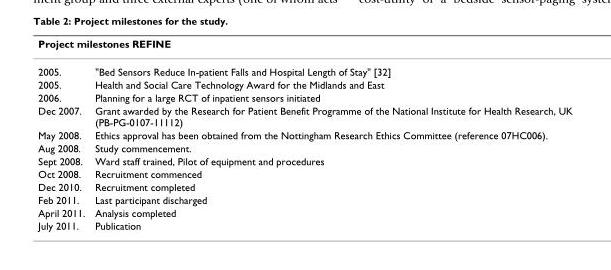table: (37, 37, 571, 231)
table column: (89, 37, 571, 231), (37, 37, 89, 231)
table column header: (37, 37, 571, 77)
table row: (37, 103, 571, 128), (37, 37, 571, 57), (37, 57, 571, 77), (37, 77, 571, 90), (37, 90, 571, 103), (37, 128, 571, 141), (37, 141, 571, 154), (37, 154, 571, 167), (37, 167, 571, 180), (37, 180, 571, 193), (37, 193, 571, 206), (37, 218, 571, 231), (37, 206, 571, 218)
table spanning cell: (37, 37, 571, 57)
